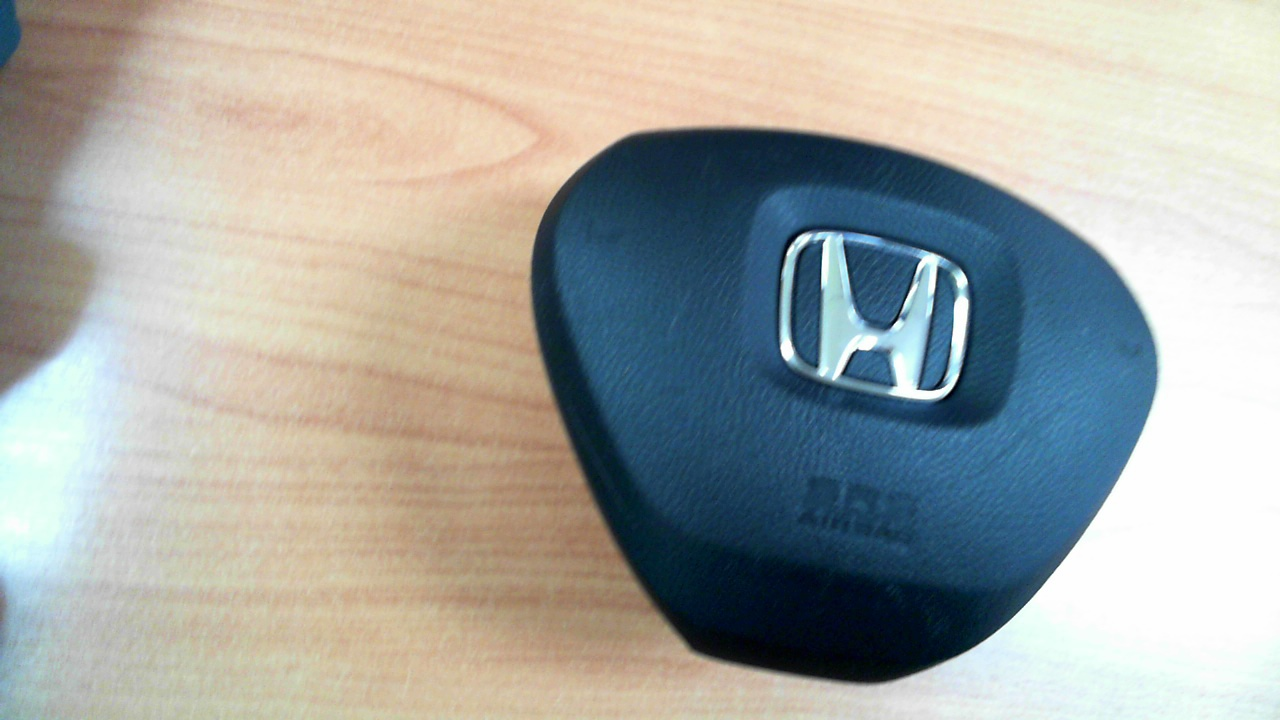Airbag: (530, 127, 1159, 687)
Honda: (778, 231, 970, 402)
